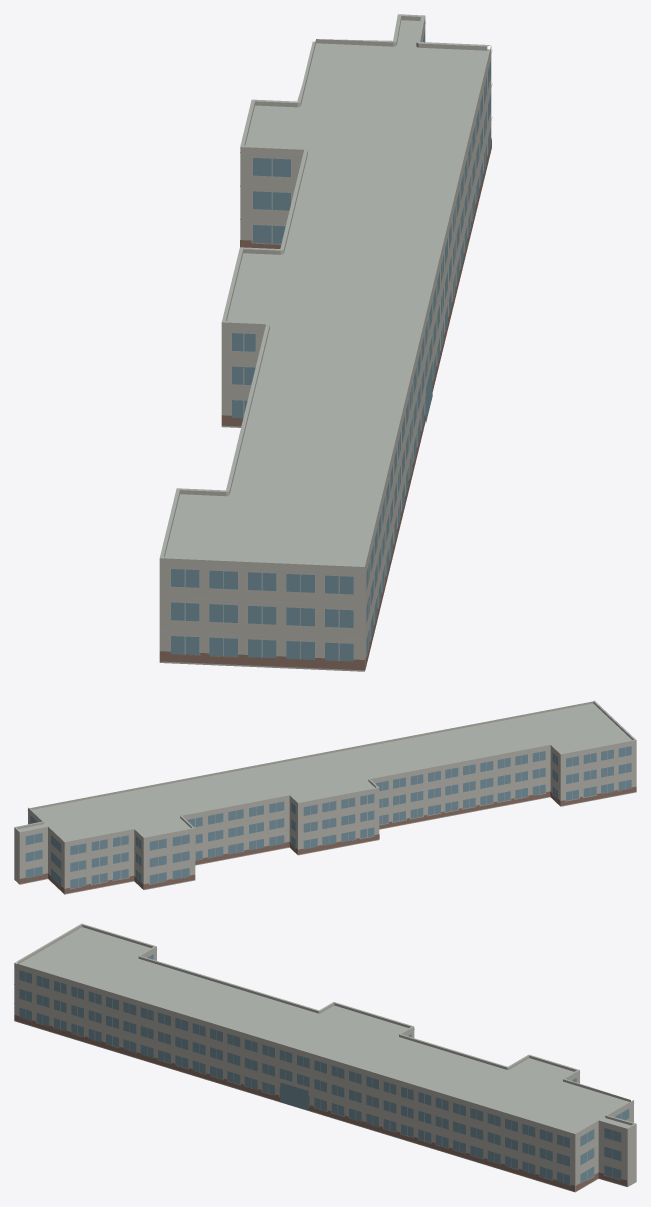
The model's file is public-fe2bbc64-c83f-476f-a3ab-dc3e8cdde679.glb.
3 renders of one model, top to bottom at view 1: azimuth 30°, elevation 25°; view 2: azimuth 150°, elevation 25°; view 3: azimuth 270°, elevation 25°, orthographic. The views are drawn at different scales.
Visible parts, largest first — view 1: public-fe2bbc64-c83f-476f-a3ab-dc3e8cdde679; view 2: public-fe2bbc64-c83f-476f-a3ab-dc3e8cdde679; view 3: public-fe2bbc64-c83f-476f-a3ab-dc3e8cdde679.
Part boxes in pixels (x1,y1,x2,y2): public-fe2bbc64-c83f-476f-a3ab-dc3e8cdde679: (159, 14, 492, 671); public-fe2bbc64-c83f-476f-a3ab-dc3e8cdde679: (14, 700, 636, 894); public-fe2bbc64-c83f-476f-a3ab-dc3e8cdde679: (14, 923, 636, 1192).
Size of the model in its own units: 70.91 by 9.15 by 88.48.
